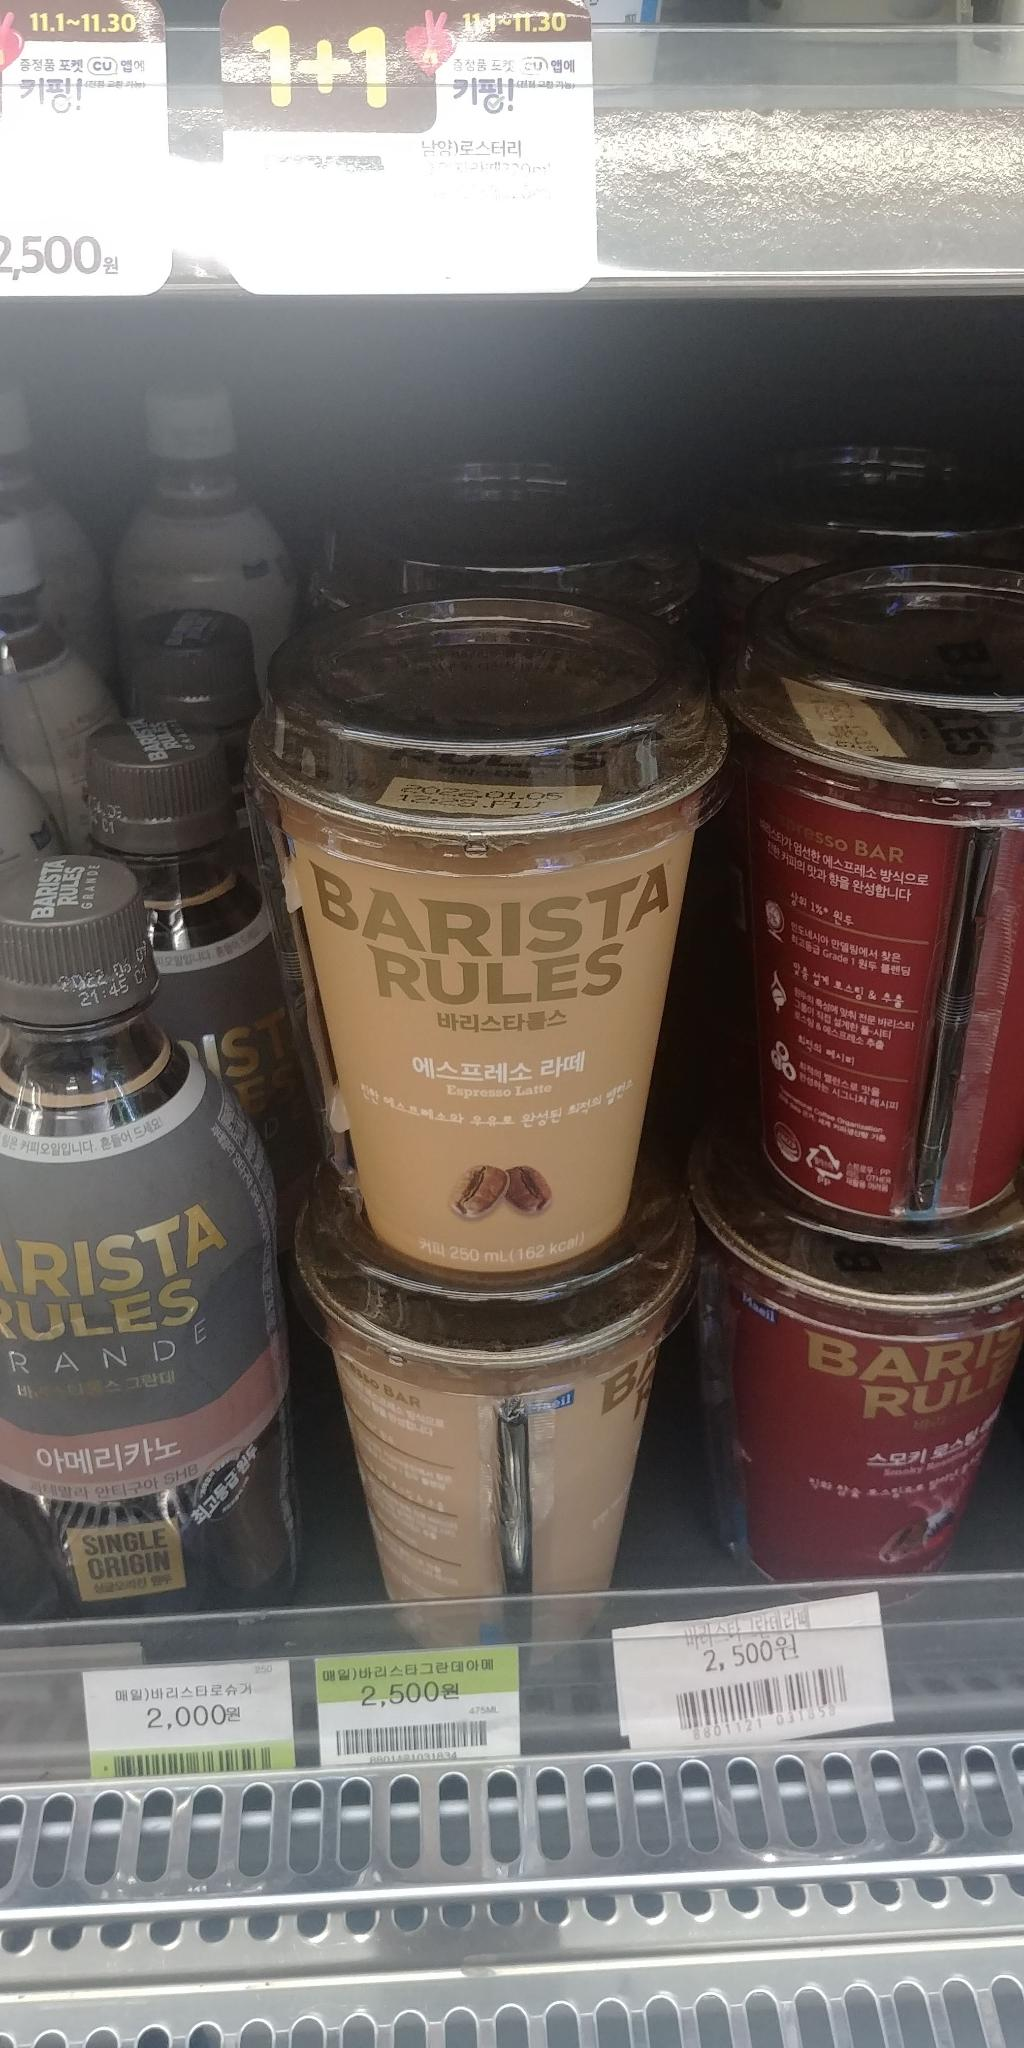baristarules_espressolatte: (236, 568, 744, 1296), (281, 1142, 694, 1667)
